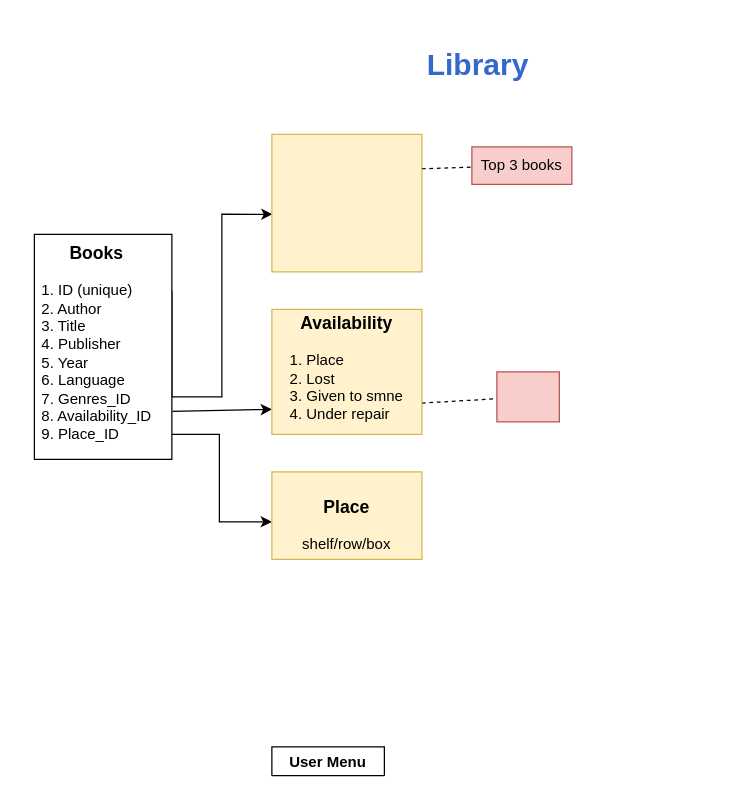
The diagram is 743 pixels wide and 798 high, and some of its shapes have lost their labels. Here are the shapes that lost their labels. From the top down, the centre of each, then its label:
(x=346, y=202): Genres 1. Classic 2. Kid's literature 3. Hobbies 4. .........
(x=527, y=396): Name Date
